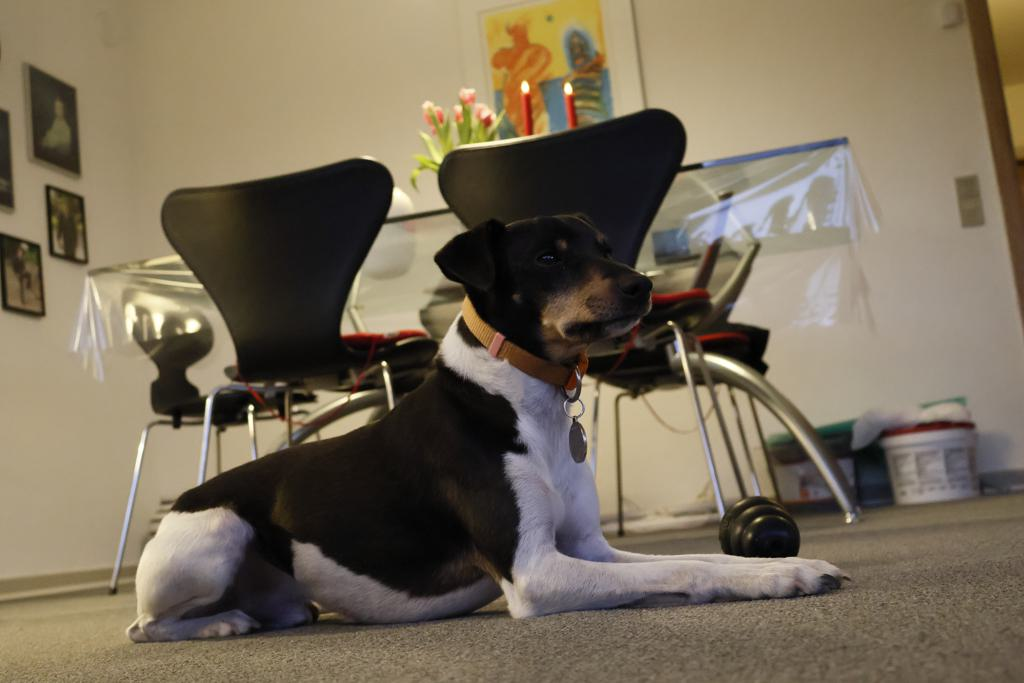Dog: (107, 183, 884, 669)
